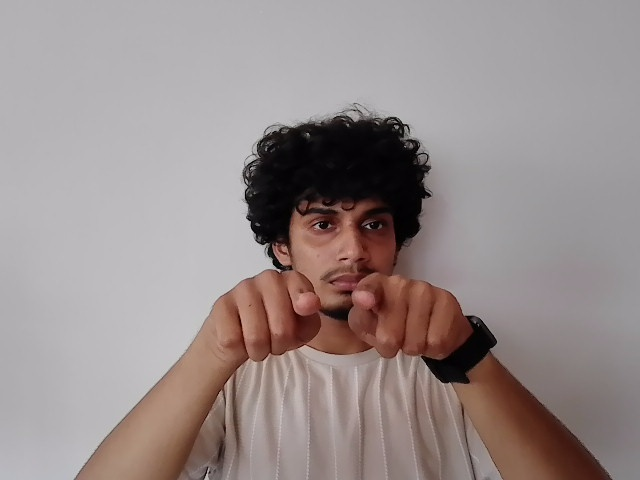same: (210, 268, 456, 365)
